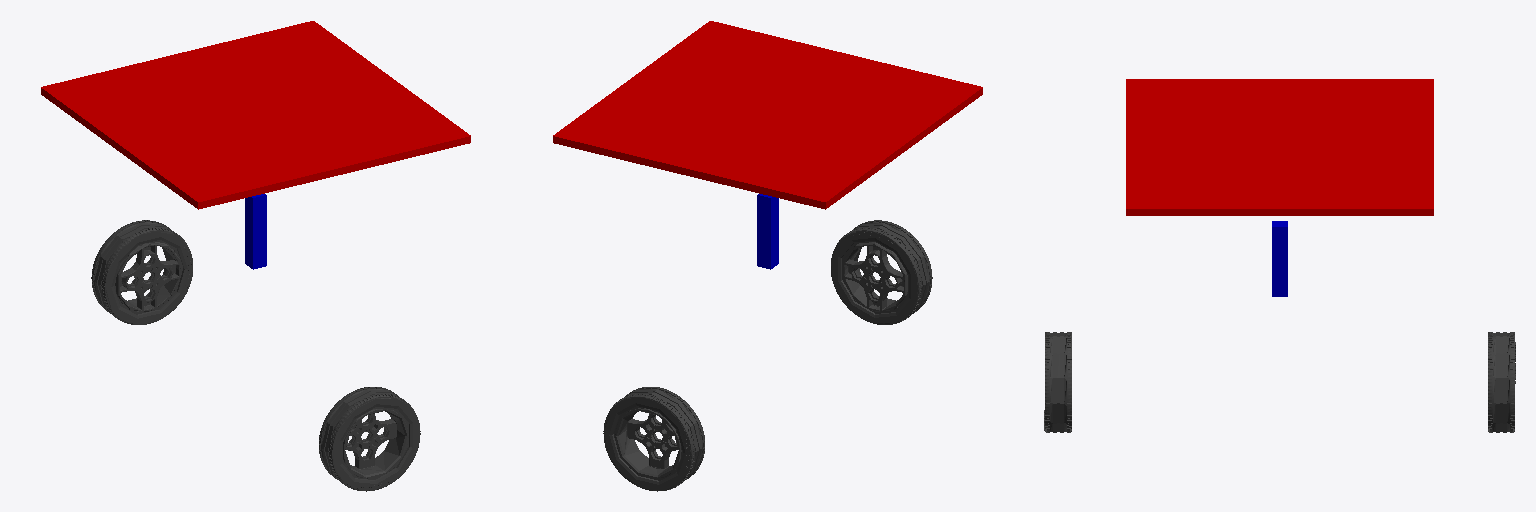
The robot description file, URDF, robot "amazon_robot":
<?xml version="1.0" ?>
<robot name="amazon_robot" xmlns:xacro="http://ros.org/wiki/xacro">
  <!-- <xacro:include filename="$(find turtlebot3_description)/urdf/common_properties.urdf"/>

  <xacro:property name="r200_cam_rgb_px" value="0.005"/>
  <xacro:property name="r200_cam_rgb_py" value="0.018"/>
  <xacro:property name="r200_cam_rgb_pz" value="0.013"/>
  <xacro:property name="r200_cam_depth_offset" value="0.01"/> -->

  <!-- Init colour -->
  <material name="black">
      <color rgba="0.0 0.0 0.0 1.0"/>
  </material>

  <material name="dark">
    <color rgba="0.3 0.3 0.3 1.0"/>
  </material>

  <material name="light_black">
    <color rgba="0.4 0.4 0.4 1.0"/>
  </material>

  <material name="blue">
    <color rgba="0.0 0.0 0.8 1.0"/>
  </material>

  <material name="green">
    <color rgba="0.0 0.8 0.0 1.0"/>
  </material>

  <material name="grey">
    <color rgba="0.5 0.5 0.5 1.0"/>
  </material>

  <material name="orange">
    <color rgba="1.0 0.4235 0.0392 1.0"/>
  </material>

  <material name="brown">
    <color rgba="0.8706 0.8118 0.7647 1.0"/>
  </material>

  <material name="red">
    <color rgba="0.8 0.0 0.0 1.0"/>
  </material>

  <material name="white">
    <color rgba="1.0 1.0 1.0 1.0"/>
  </material>

  <link name="base_footprint"/>

  <joint name="base_joint" type="fixed">
    <parent link="base_footprint"/>
    <child link="base_link" />
    <origin xyz="0 0 0.010" rpy="0 0 0"/>
  </joint>

  <link name="base_link">
    <visual>
      <origin xyz="-0.064 0 0.0" rpy="0 0 0"/>
      <geometry>
        <mesh filename="package://amazon_robot_description/meshes/bases/waffle_pi_base.stl" scale="0.002 0.002 0.002"/>
      </geometry>
      <material name="orange"/>
    </visual>

    <collision>
      <origin xyz="-0.064 0 0.047" rpy="0 0 0"/>
      <geometry>
        <box size="0.532 0.532 0.188"/>
      </geometry>
    </collision>

    <inertial>
      <origin xyz="0 0 0" rpy="0 0 0"/>
      <mass value="1.3729096e+00"/>
      <inertia ixx="8.7002718e-03" ixy="-4.7576583e-05" ixz="1.1160499e-04"
               iyy="8.6195418e-03" iyz="-3.5422299e-06"
               izz="1.4612727e-02" />
    </inertial>
  </link>

  <joint name="wheel_left_joint" type="continuous">
    <parent link="base_link"/>
    <child link="wheel_left_link"/>
    <origin xyz="0.0 0.288 0.023" rpy="-1.57 0 0"/>
    <axis xyz="0 0 1"/>
  </joint>

  <link name="wheel_left_link">
    <visual>
      <origin xyz="0 0 0" rpy="1.57 0 0"/>
      <geometry>
        <mesh filename="package://amazon_robot_description/meshes/wheels/left_tire.stl" scale="0.002 0.002 0.002"/>
      </geometry>
      <material name="dark"/>
    </visual>

    <collision>
      <origin xyz="0 0 0" rpy="0 0 0"/>
      <geometry>
        <cylinder length="0.020" radius="0.072"/>
      </geometry>
    </collision>

    <inertial>
      <origin xyz="0 0 0" />
      <mass value="2.8498940e-02" />
      <inertia ixx="1.1175580e-05" ixy="-4.2369783e-11" ixz="-5.9381719e-09"
               iyy="1.1192413e-05" iyz="-1.4400107e-11"
               izz="2.0712558e-05" />
      </inertial>
  </link>

  <joint name="wheel_right_joint" type="continuous">
    <parent link="base_link"/>
    <child link="wheel_right_link"/>
    <origin xyz="0.0 -0.288 0.023" rpy="-1.57 0 0"/>
    <axis xyz="0 0 1"/>
  </joint>

  <link name="wheel_right_link">
    <visual>
      <origin xyz="0 0 0" rpy="1.57 0 0"/>
      <geometry>
        <mesh filename="package://amazon_robot_description/meshes/wheels/right_tire.stl" scale="0.002 0.002 0.002"/>
      </geometry>
      <material name="dark"/>
    </visual>

    <collision>
      <origin xyz="0 0 0" rpy="0 0 0"/>
      <geometry>
        <cylinder length="0.020" radius="0.072"/>
      </geometry>
    </collision>

    <inertial>
      <origin xyz="0 0 0" />
      <mass value="2.8498940e-02" />
      <inertia ixx="1.1175580e-05" ixy="-4.2369783e-11" ixz="-5.9381719e-09"
               iyy="1.1192413e-05" iyz="-1.4400107e-11"
               izz="2.0712558e-05" />
      </inertial>
  </link>



  <joint name="caster_back_right_joint" type="fixed">
    <parent link="base_link"/>
    <child link="caster_back_right_link"/>
    <origin xyz="-0.268 -0.064 -0.016" rpy="-1.57 0 0"/>
  </joint>

  <link name="caster_back_right_link">
    <collision>
      <origin xyz="0 0.001 0" rpy="0 0 0"/>
      <geometry>
        <box size="0.060 0.018 0.040"/>
      </geometry>
    </collision>

    <inertial>
      <origin xyz="0 0 0" />
      <mass value="0.005" />
      <inertia ixx="0.001" ixy="0.0" ixz="0.0"
               iyy="0.001" iyz="0.0"
               izz="0.001" />
    </inertial>
  </link>

  <joint name="caster_back_left_joint" type="fixed">
    <parent link="base_link"/>
    <child link="caster_back_left_link"/>
    <origin xyz="-0.268 0.064 -0.016" rpy="-1.57 0 0"/>
  </joint>

  <link name="caster_back_left_link">
    <collision>
      <origin xyz="0 0.001 0" rpy="0 0 0"/>
      <geometry>
        <box size="0.060 0.018 0.040"/>
      </geometry>
    </collision>

    <inertial>
      <origin xyz="0 0 0" />
      <mass value="0.005" />
      <inertia ixx="0.001" ixy="0.0" ixz="0.0"
               iyy="0.001" iyz="0.0"
               izz="0.001" />
    </inertial>
  </link>

  <joint name="imu_joint" type="fixed">
    <parent link="base_link"/>
    <child link="imu_link"/>
    <origin xyz="0.0 0 0.136" rpy="0 0 0"/>
  </joint>

  <link name="imu_link"/>

  <joint name="scan_joint" type="fixed">
    <parent link="base_link"/>
    <child link="base_scan"/>
    <origin xyz="-0.064 0 0.244" rpy="0 0 0"/>
  </joint>

  <link name="base_scan">
    <visual>
      <origin xyz="0 0 0.0" rpy="0 0 0"/>
      <geometry>
        <mesh filename="package://amazon_robot_description/meshes/sensors/lds.stl" scale="0.002 0.002 0.002"/>
      </geometry>
      <material name="dark"/>
    </visual>

    <collision>
      <origin xyz="0.015 0 -0.0065" rpy="0 0 0"/>
      <geometry>
        <cylinder length="0.0315" radius="0.055"/>
      </geometry>
    </collision>

    <inertial>
      <mass value="0.114" />
      <origin xyz="0 0 0" />
      <inertia ixx="0.001" ixy="0.0" ixz="0.0"
               iyy="0.001" iyz="0.0"
               izz="0.001" />
    </inertial>
  </link>


  <joint name="camera_joint" type="fixed">
    <origin xyz="0.064 -0.065 0.094" rpy="0 0 0"/>
    <parent link="base_link"/>
    <child link="camera_link"/>
  </joint>


<link name="link_platform_mid">
    <origin xyz="0 0 0.0" rpy="0 0 0"/>

    <visual>
      <geometry>
        <box size="0.02 0.02 0.10" />
      </geometry>
      <material name="blue"/>
    </visual>
    <collision>
      <geometry>
        <box size="0.02 0.02 0.10" />
      </geometry>
    </collision>

    <inertial>
      <mass value="1"/>
      <inertia
              ixx="1.0" ixy="0.0" ixz="0.0"
              iyy="1.0" iyz="0.0"
              izz="1.0"/>
    </inertial>

  </link>
  <joint name="platform_joint" type="fixed">
    <parent link="base_link" />
    <child link="link_platform_mid" />
    <origin xyz="0.0 0 0.20" rpy="0. 0. 0."/>
  </joint>


  <link name="lift_link">
    <origin xyz="0 0 0.0" rpy="0 0 0"/>

    <visual>
      <geometry>
        <box size="0.40 0.40 0.01" />
      </geometry>
      <material name="red"/>
    </visual>
    <collision>
      <geometry>
        <box size="0.40 0.40 0.01" />
      </geometry>
    </collision>
    <inertial>
      <mass value="1"/>
      <inertia
              ixx="1.0" ixy="0.0" ixz="0.0"
              iyy="1.0" iyz="0.0"
              izz="1.0"/>
    </inertial>
  </link>

  <joint name="lift_joint" type="prismatic" >
  <origin xyz="0 0 0.16" rpy="0. 0. 0."/>
    <child link="lift_link" />
    <parent link="link_platform_mid" />
    <axis xyz="0 0 1" rpy="0 0 0"/>
    <limit effort="10000.0" lower="-0.05" upper="0.24" velocity="0.5"/>
<!--    <inertia ixx="0" ixy="0.0" ixz="1" iyy="0" iyz="0" izz="0"/>-->
  </joint>




  <link name="camera_link">
    <visual>
     <origin xyz="0 0 0" rpy="1.57 0 1.57"/>
      <geometry>
       <mesh filename="package://turtlebot3_description/meshes/sensors/r200.dae" />
      </geometry>
    </visual>
    <collision>
      <origin xyz="0.003 0.065 0.007" rpy="0 0 0"/>
      <geometry>
        <box size="0.012 0.132 0.020"/>
      </geometry>
    </collision>

    <!-- This inertial field needs doesn't contain reliable data!! -->
<!--   <inertial>
      <mass value="0.564" />
      <origin xyz="0 0 0" />
      <inertia ixx="0.003881243" ixy="0.0" ixz="0.0"
               iyy="0.000498940" iyz="0.0"
               izz="0.003879257" />
    </inertial>-->
  </link>

  <joint name="camera_rgb_joint" type="fixed">
    <origin xyz="0.005 0.018 0.013" rpy="0 0 0"/>
    <!-- <origin xyz="${r200_cam_rgb_px} ${r200_cam_rgb_py} ${r200_cam_rgb_pz}" rpy="0 0 0"/> -->
    <parent link="camera_link"/>
    <child link="camera_rgb_frame"/>
  </joint>
  <link name="camera_rgb_frame"/>

  <joint name="camera_rgb_optical_joint" type="fixed">
    <origin xyz="0 0 0" rpy="-1.57 0 -1.57"/>
    <parent link="camera_rgb_frame"/>
    <child link="camera_rgb_optical_frame"/>
  </joint>
  <link name="camera_rgb_optical_frame"/>

  <joint name="camera_depth_joint" type="fixed">
    <origin xyz="0.005 0.028 0.013" rpy="-1.57 0 -1.57"/>
    <!-- <origin xyz="${r200_cam_rgb_px} ${r200_cam_rgb_py + r200_cam_depth_offset} ${r200_cam_rgb_pz}" rpy="0 0 0"/> -->
    <parent link="camera_link"/>
    <child link="camera_depth_frame"/>
  </joint>
  <link name="camera_depth_frame"/>

  <joint name="camera_depth_optical_joint" type="fixed">
    <origin xyz="0 0 0" rpy="0 0 0"/>
    <parent link="camera_depth_frame"/>
    <child link="camera_depth_optical_frame"/>
  </joint>
  <link name="camera_depth_optical_frame"/>

</robot>

--- Facts derived from the render (not from the file) ---
3 views of the same robot in one strip: view 1: azimuth 30°, elevation 25°; view 2: azimuth 150°, elevation 25°; view 3: azimuth 270°, elevation 25° (orthographic).
Model amazon_robot with 15 links and 14 joints (2 continuous, 1 prismatic, 11 fixed), rooted at base_footprint, posed all joints at 0.
Visible links, largest first — view 1: lift_link, wheel_left_link, wheel_right_link, link_platform_mid; view 2: lift_link, wheel_right_link, wheel_left_link, link_platform_mid; view 3: lift_link, wheel_left_link, wheel_right_link, link_platform_mid.
Boxes of the visible links, x1,y1,x2,y2 form: lift_link: (41,21,470,209); wheel_left_link: (91,220,192,324); wheel_right_link: (319,387,420,491); link_platform_mid: (245,194,266,269); lift_link: (553,21,982,209); wheel_right_link: (831,220,932,324); wheel_left_link: (603,387,704,491); link_platform_mid: (757,194,778,269); lift_link: (1126,79,1433,215); wheel_left_link: (1488,332,1515,432); wheel_right_link: (1044,332,1071,432); link_platform_mid: (1272,221,1287,296).
Bounding box of the posed robot: 0.4 × 0.6124 × 0.408 m (x, y, z).
Meshes: 5 distinct files referenced, 2 mesh visuals loaded (2 binary STL); not drawn: 3 (reference not matched to a file when rendering).